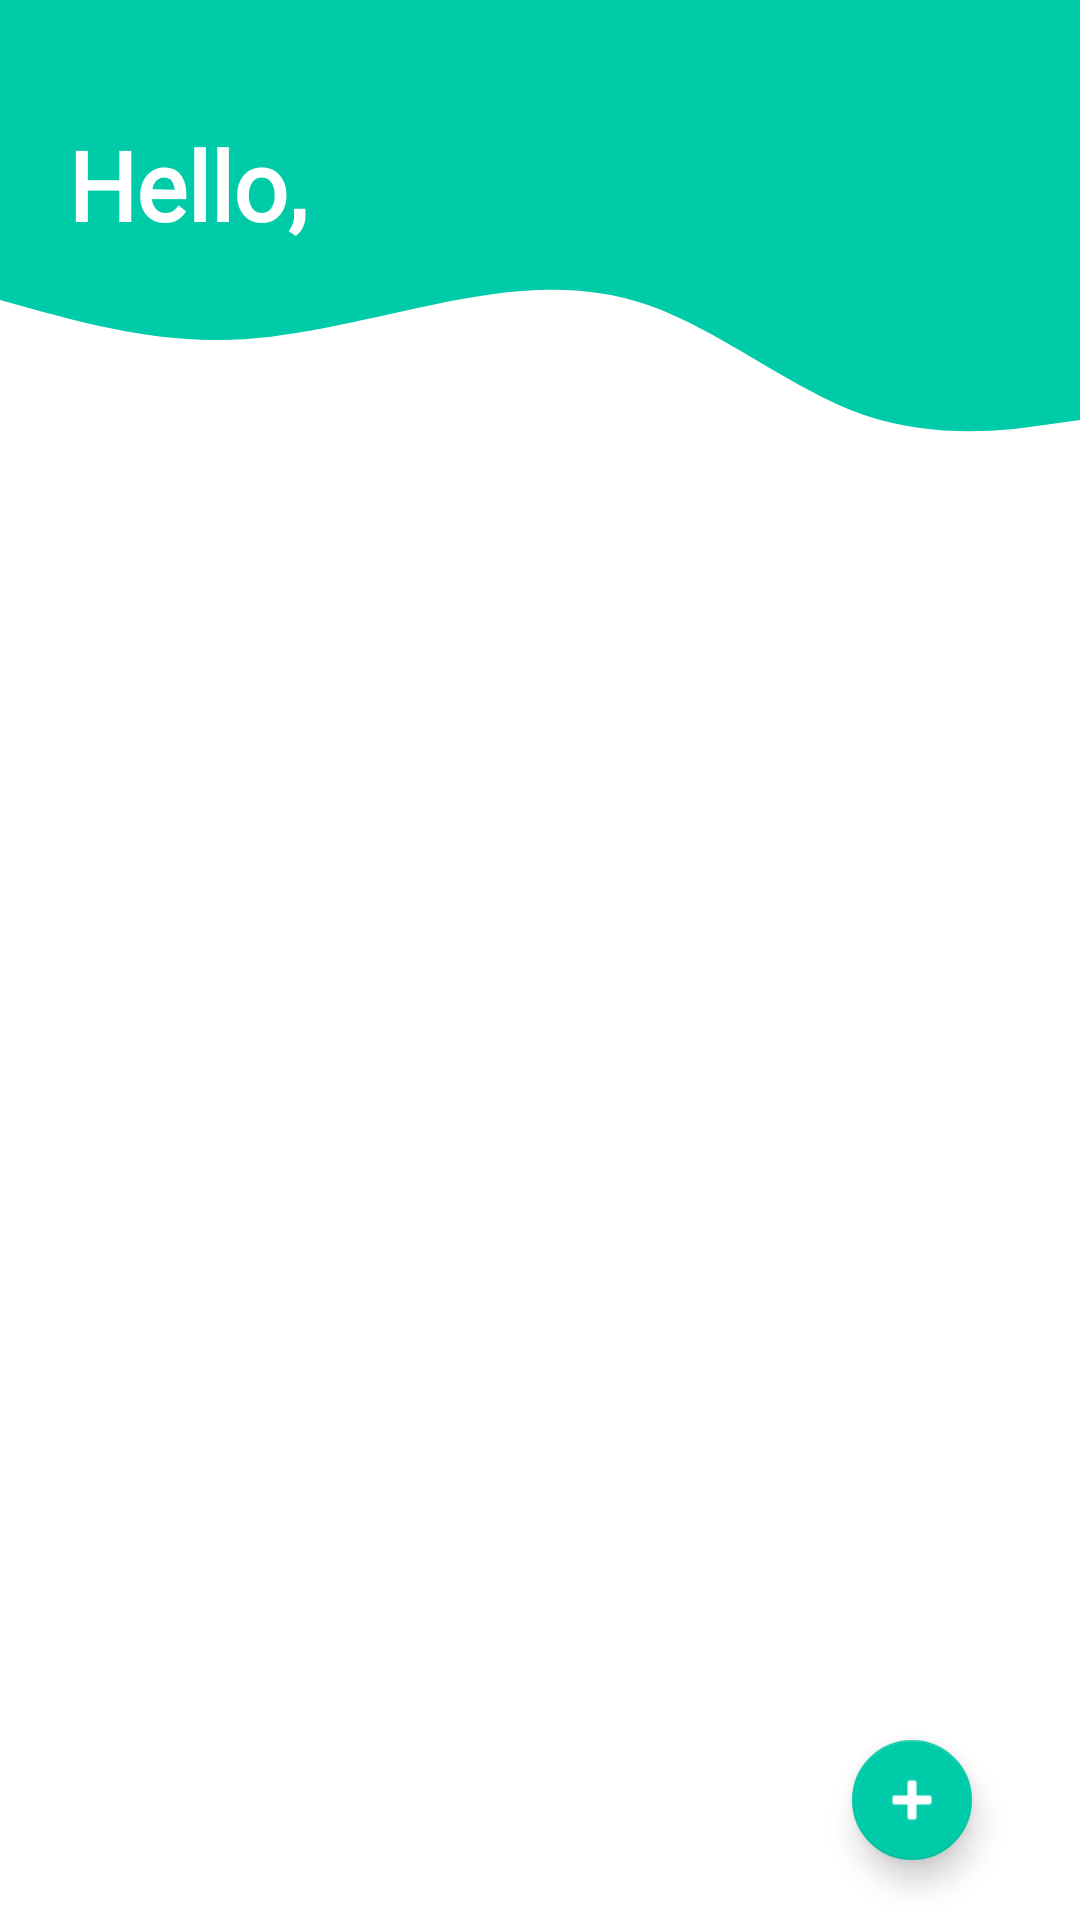

Icons on this 1080 × 1920 Android screen, each with the point to tap as [x,y]:
add: [913,1806]
